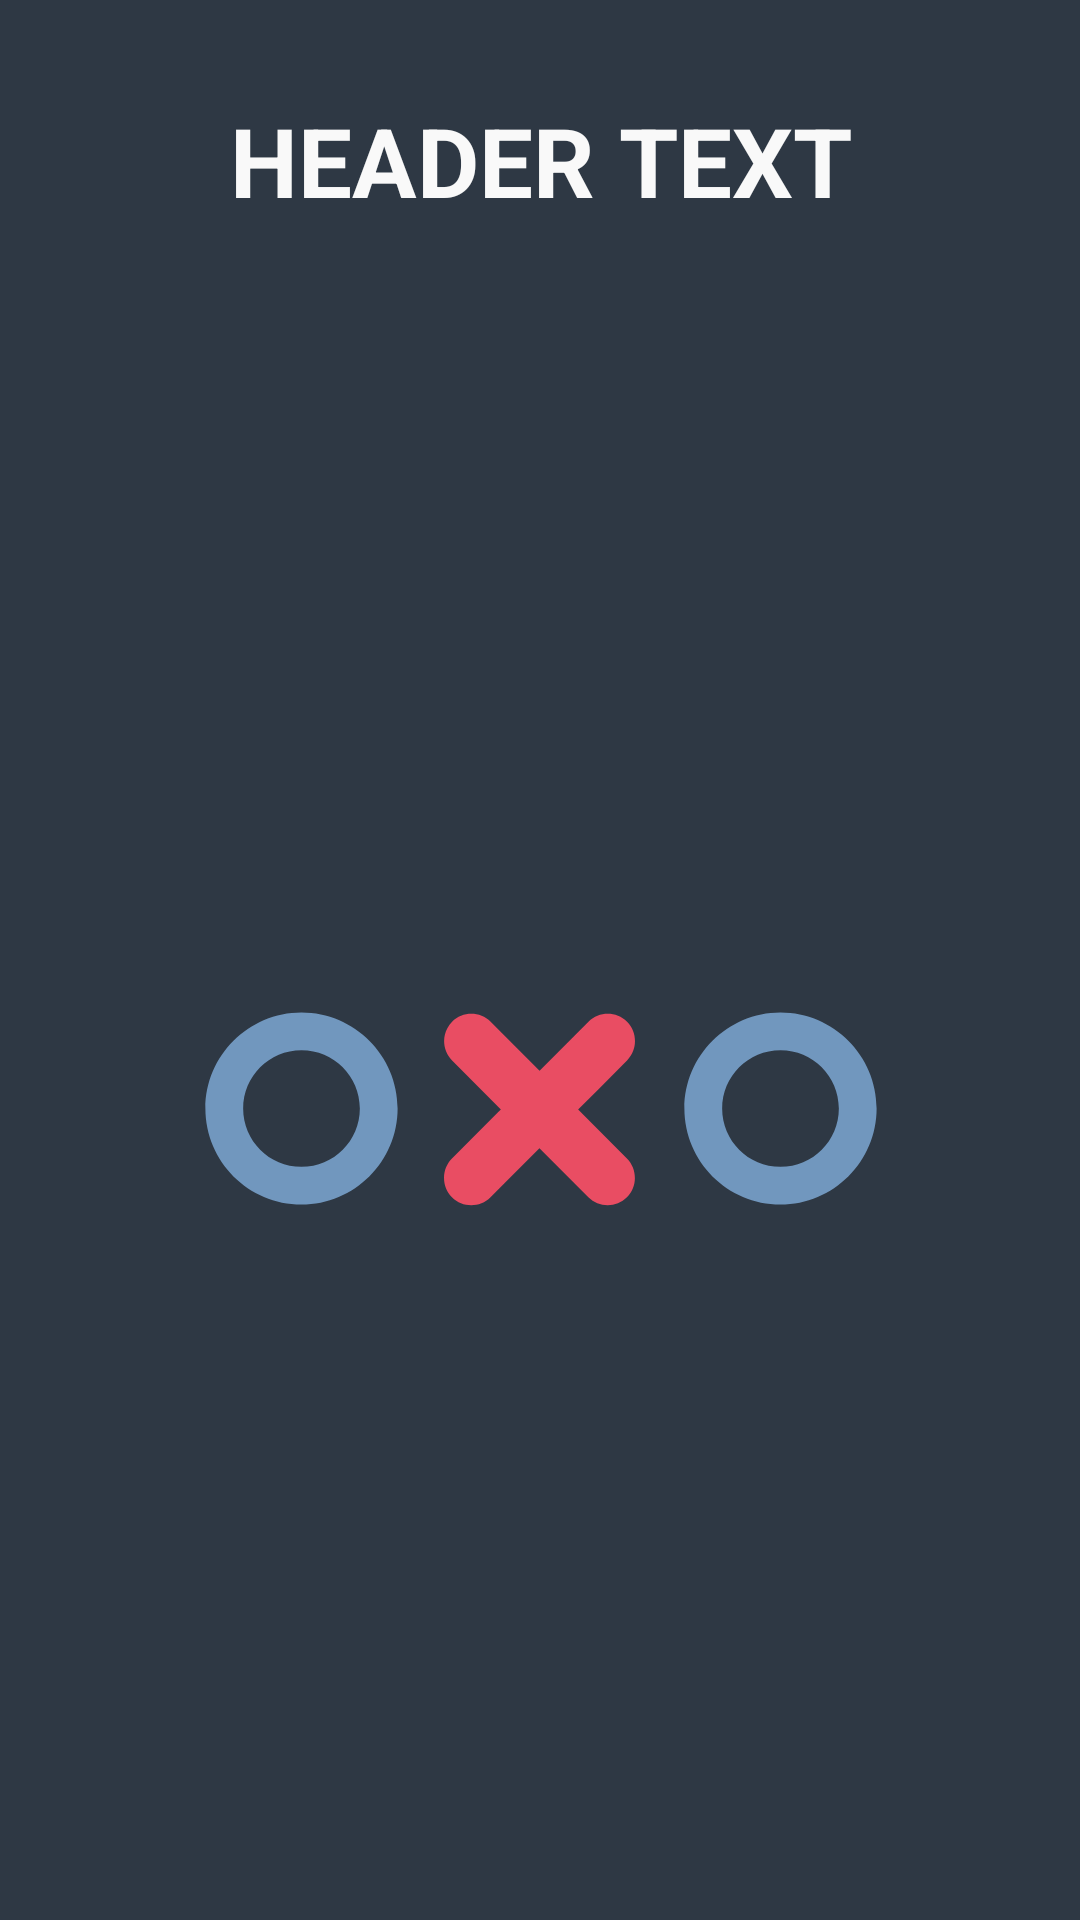

Named icons in this screenshot (1080*1920) and their bounding boxes, {"x1": x1, "y1": y1, "x2": x2, "y2": y2}:
circle: {"x1": 205, "y1": 1012, "x2": 398, "y2": 1205}, {"x1": 684, "y1": 1012, "x2": 877, "y2": 1205}
cross: {"x1": 444, "y1": 1013, "x2": 635, "y2": 1206}
